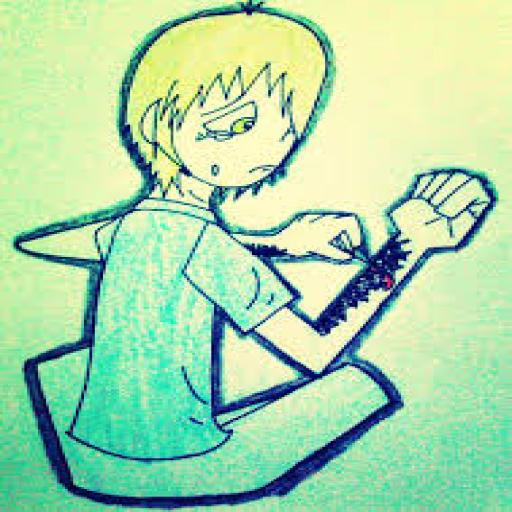person: (11, 0, 499, 508)
